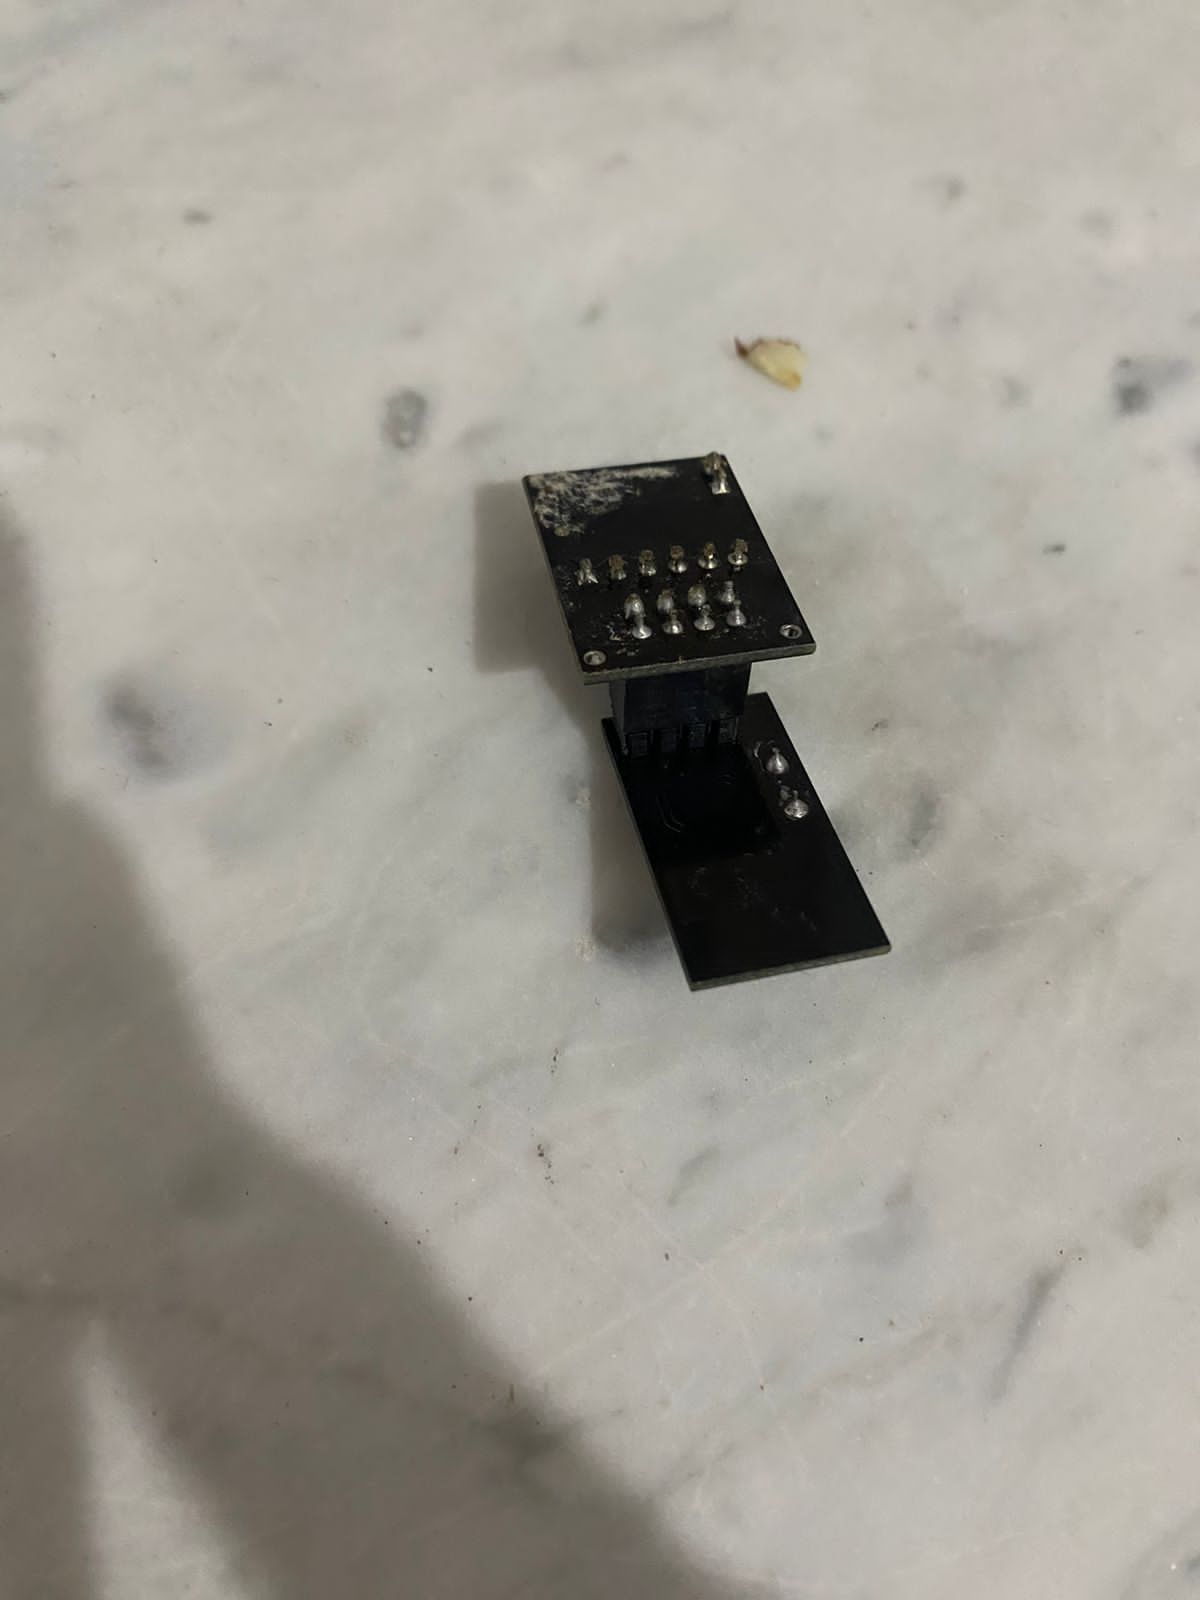RF-module: (487, 432, 908, 981)
